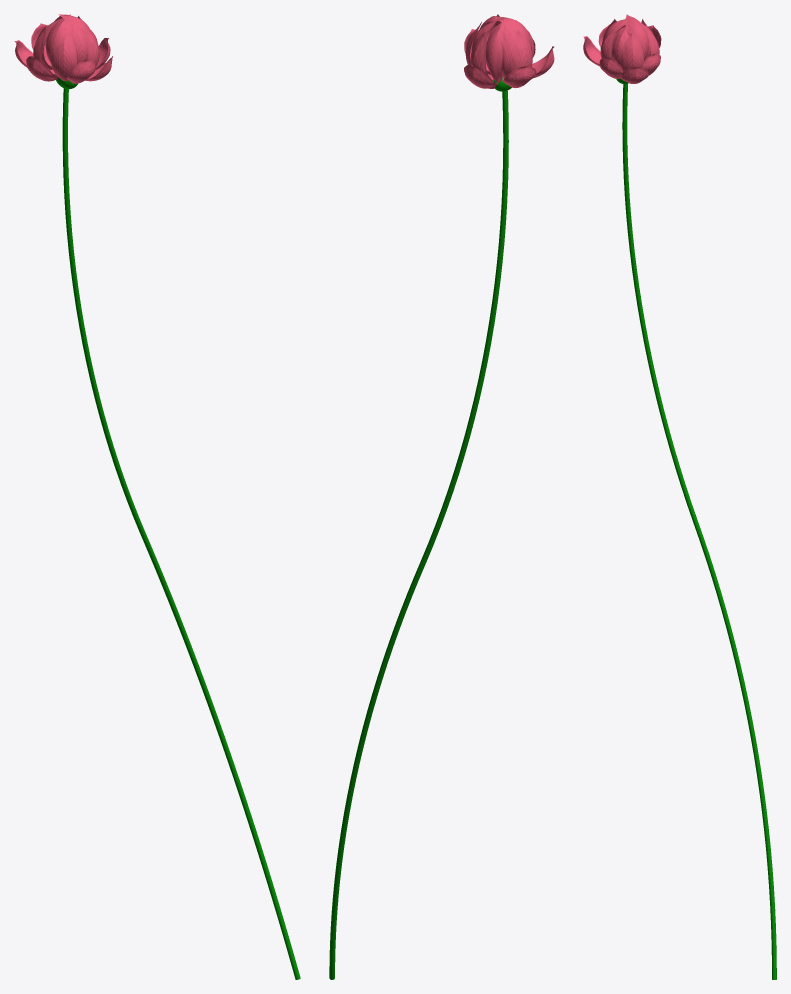
The model's file is Lotus045.fbx.
3 renders of one model, left to right at view 1: azimuth 30°, elevation 25°; view 2: azimuth 150°, elevation 25°; view 3: azimuth 330°, elevation 25°, orthographic. The views are drawn at different scales.
Parts seen in each view (by area): view 1: pCylinder5, nurbsToPoly16; view 2: pCylinder5, nurbsToPoly23, nurbsToPoly20, nurbsToPoly14, nurbsToPoly10, nurbsToPoly17; view 3: pCylinder5, nurbsToPoly13, nurbsToPoly22.
Boxes of the visible parts, x1=… form: pCylinder5: x1=62, y1=88, x2=300, y2=979; nurbsToPoly16: x1=51, y1=28, x2=77, y2=81; pCylinder5: x1=329, y1=90, x2=508, y2=979; nurbsToPoly23: x1=486, y1=22, x2=502, y2=81; nurbsToPoly20: x1=500, y1=19, x2=516, y2=78; nurbsToPoly14: x1=511, y1=30, x2=532, y2=71; nurbsToPoly10: x1=464, y1=64, x2=499, y2=88; nurbsToPoly17: x1=470, y1=31, x2=498, y2=88; pCylinder5: x1=622, y1=83, x2=776, y2=979; nurbsToPoly13: x1=620, y1=33, x2=644, y2=71; nurbsToPoly22: x1=625, y1=14, x2=648, y2=59.
Size of the model in its own units: 51.84 by 203 by 23.69.
